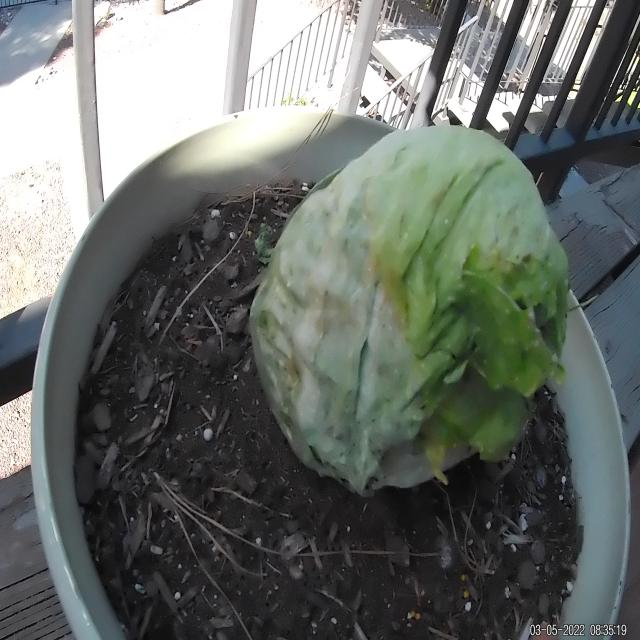cabbage: (242, 107, 573, 519)
